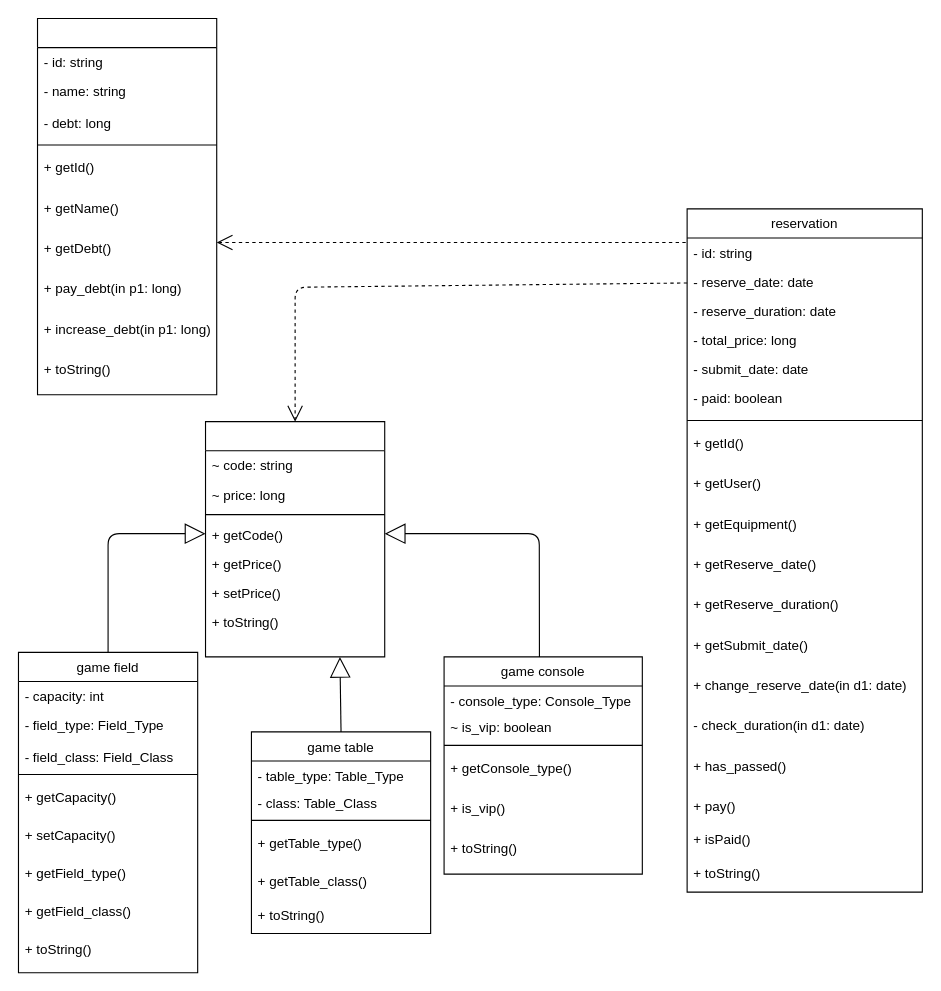
Some shapes in this 941 by 991 pixel diagram are drawn without their labels. Here are the shapes that lost their labels. From the top down, the box of each, then its label:
(36, 17, 217, 395): user (client)
(204, 421, 385, 657): equipment
